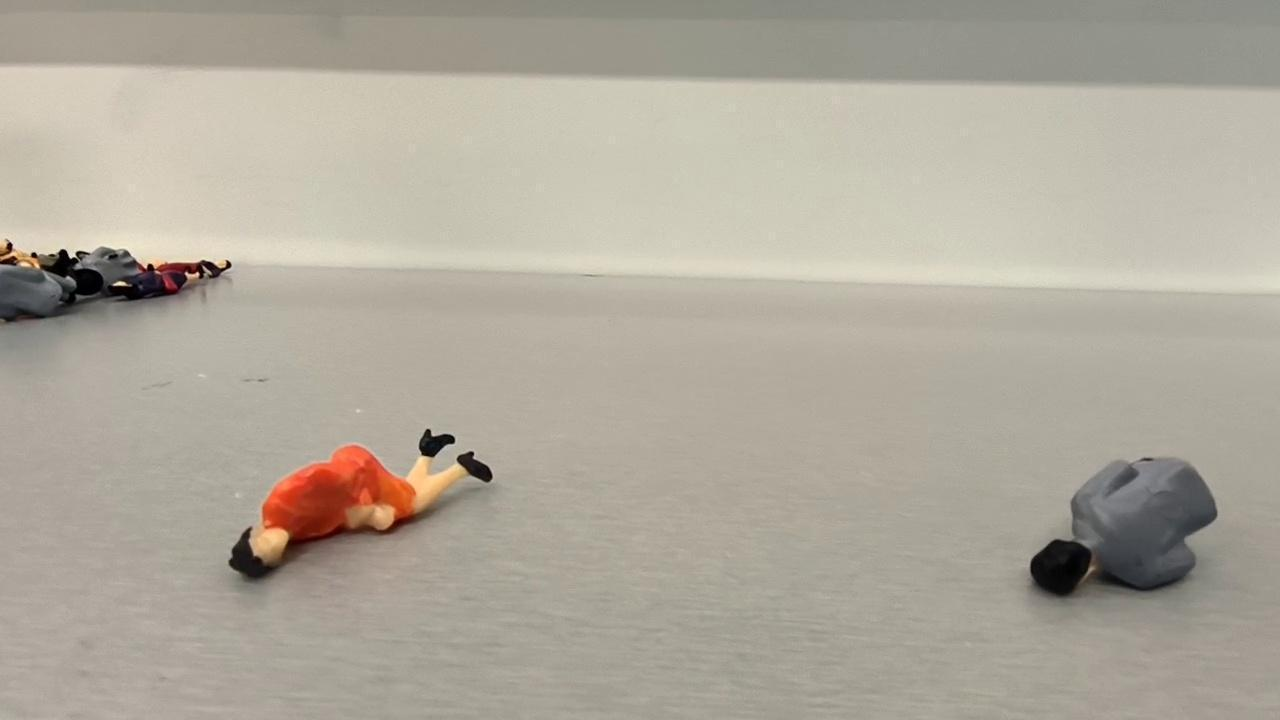human: (218, 411, 499, 602), (1010, 437, 1236, 623)
